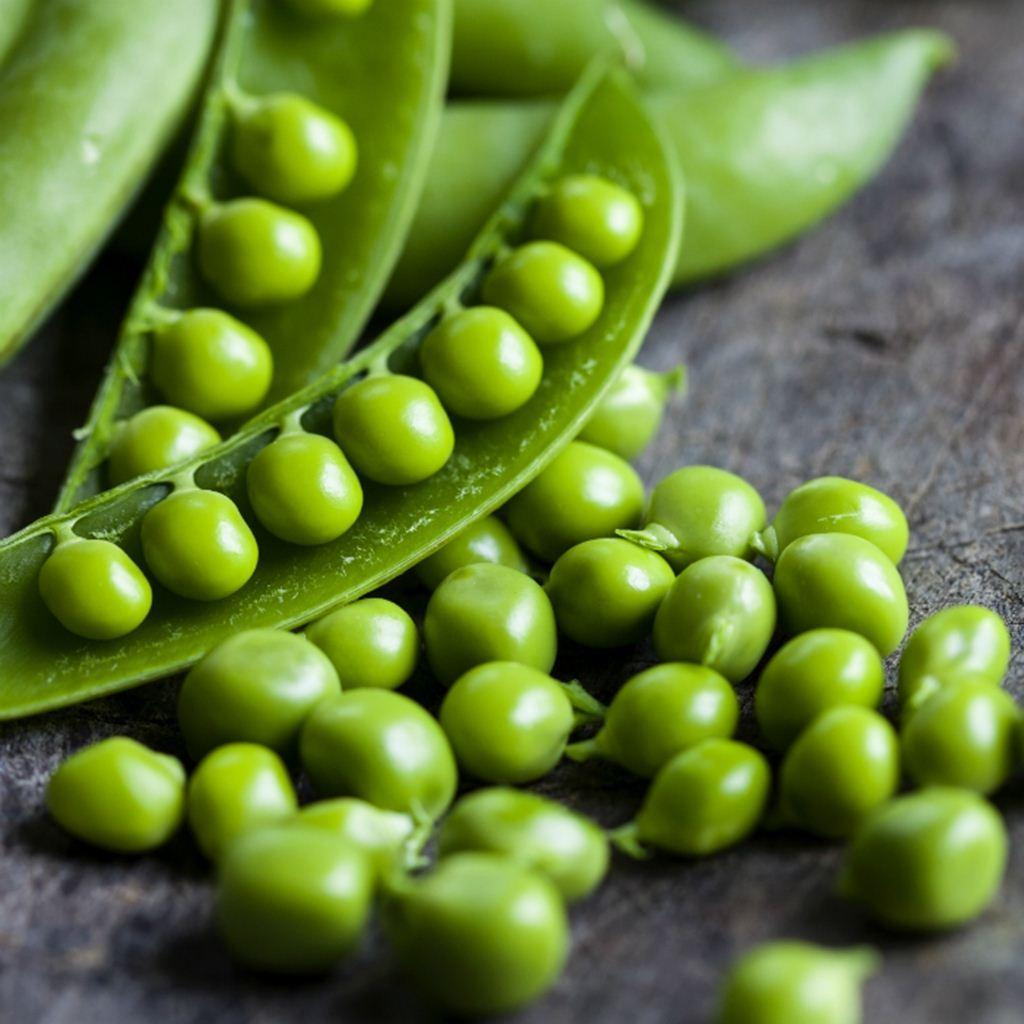peas: (3, 1, 1020, 1018), (209, 0, 453, 403)
